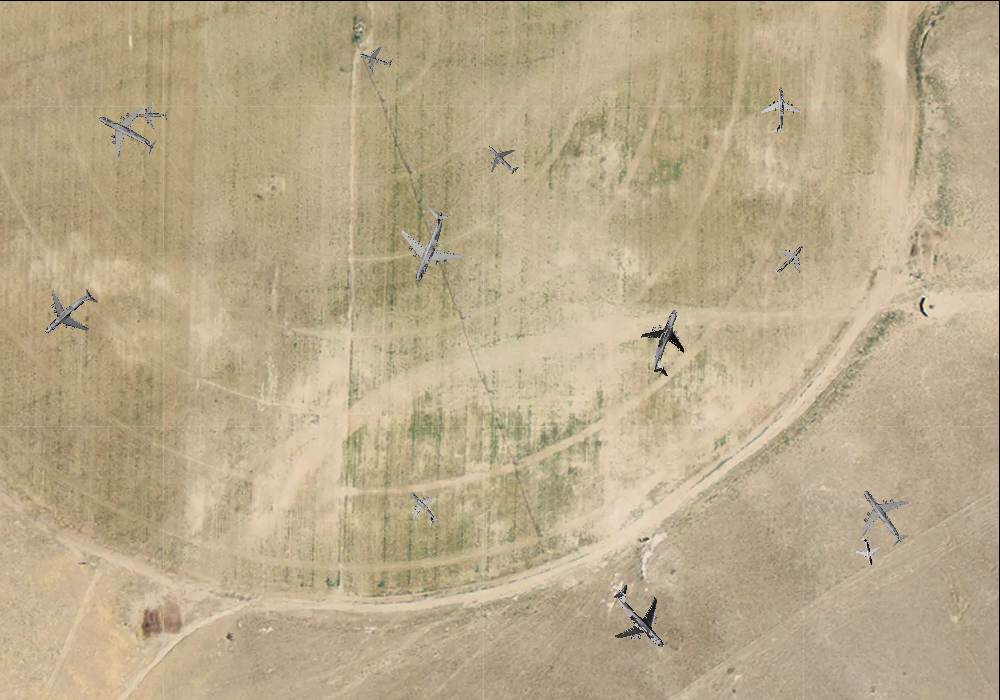plane: (591, 569, 689, 668), (381, 197, 476, 294), (840, 473, 926, 560), (26, 271, 110, 355), (84, 91, 168, 173), (628, 300, 706, 383), (396, 481, 449, 534), (763, 233, 815, 285), (477, 133, 527, 184), (757, 86, 802, 133), (354, 38, 396, 79), (851, 534, 883, 568), (134, 99, 167, 130)
